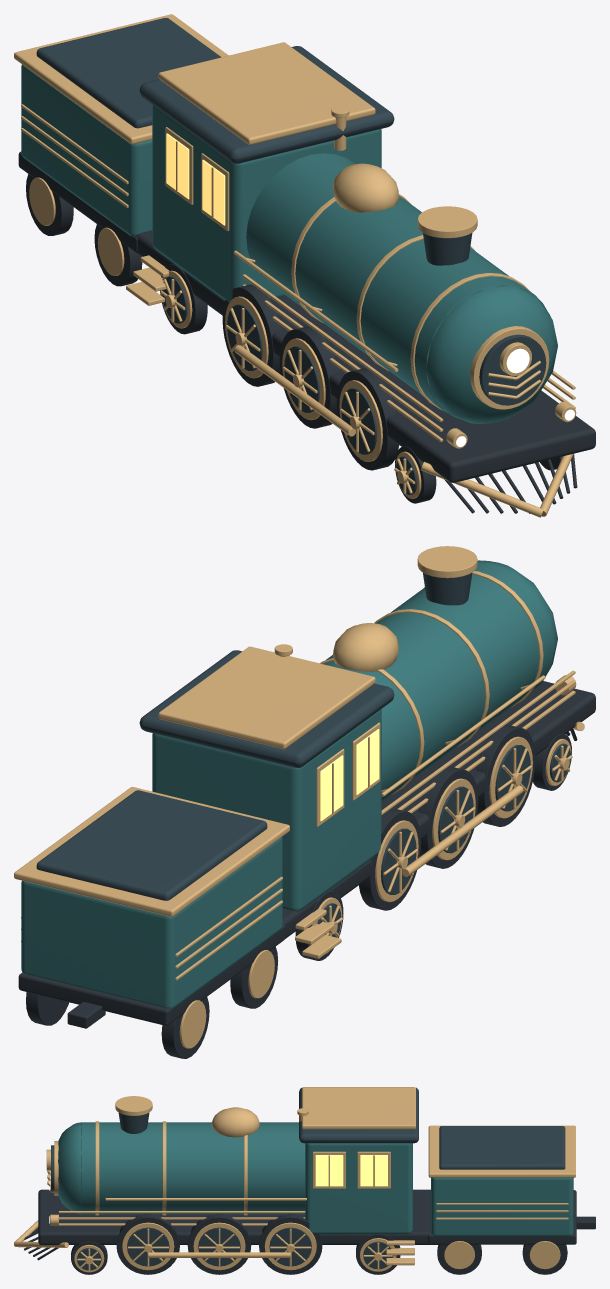
Rendered from locomotive.glb.
The picture shows the model from 3 angles, top to bottom: view 1: azimuth 30°, elevation 25°; view 2: azimuth 150°, elevation 25°; view 3: azimuth 270°, elevation 25°; orthographic projection. The views are drawn at different scales.
Visible parts, largest first — view 1: locomotive; view 2: locomotive; view 3: locomotive.
Boxes of the visible parts, <box> form: locomotive: <box>14,14,595,517</box>; locomotive: <box>14,546,595,1058</box>; locomotive: <box>14,1087,595,1274</box>.
Size of the model in its own units: 3.42 by 4.08 by 14.3.
